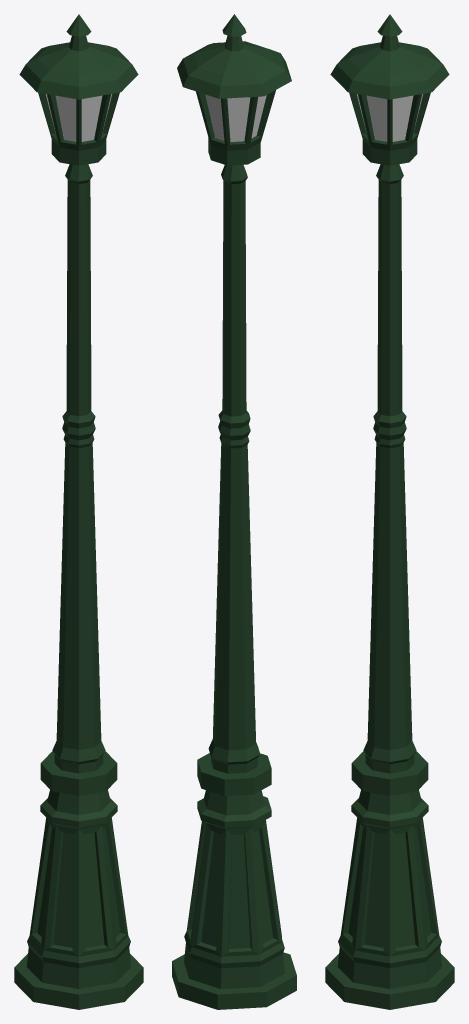
File: Streetlight_Single.glb
The picture shows the model from 3 angles, left to right: view 1: azimuth 90°, elevation 25°; view 2: azimuth 210°, elevation 25°; view 3: azimuth 270°, elevation 25°; orthographic projection.
Parts seen in each view (by area): view 1: Green, Glass; view 2: Green, Glass; view 3: Green, Glass.
Boxes of the visible parts, x1,y1,x2,y2 form: Green: (14, 14, 143, 1009); Glass: (45, 94, 112, 141); Green: (172, 14, 296, 1009); Glass: (205, 94, 266, 141); Green: (325, 14, 454, 1009); Glass: (356, 94, 423, 141).
Bounding box in the file's own units: 0.5924 × 4.91 × 0.5924.
